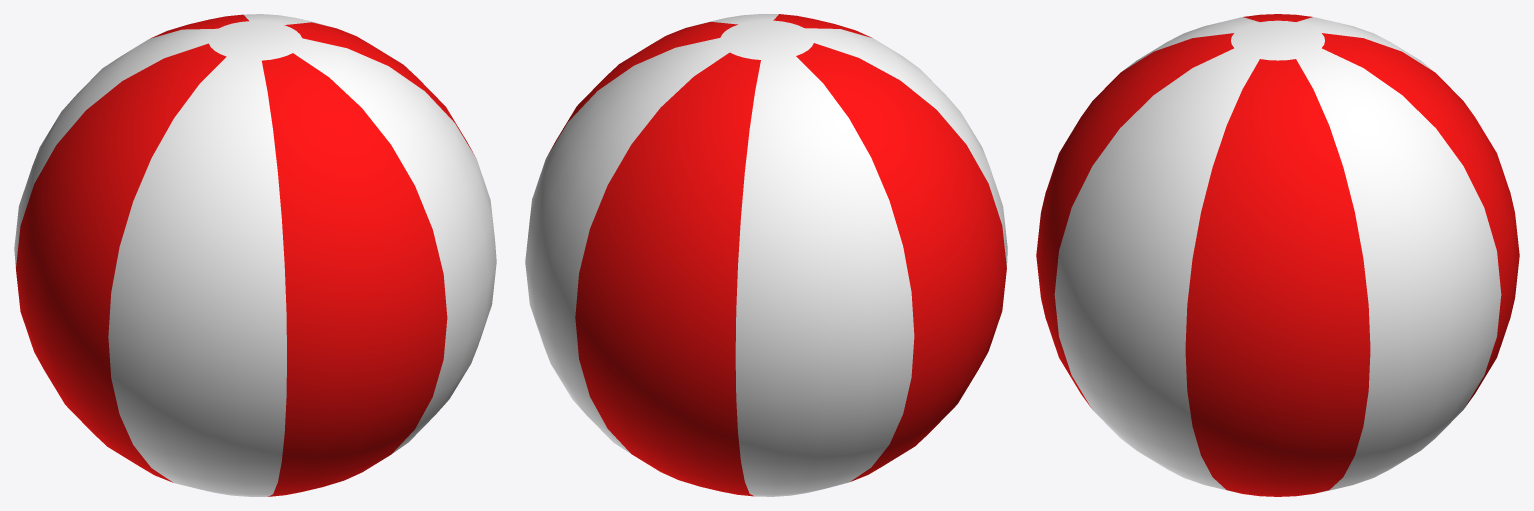
Rendered from Bola.FBX.
3 renders of one model, left to right at view 1: azimuth 30°, elevation 25°; view 2: azimuth 150°, elevation 25°; view 3: azimuth 270°, elevation 25°, orthographic.
Visible parts, largest first — view 1: Bola de praia; view 2: Bola de praia; view 3: Bola de praia.
Part boxes in pixels (x1,y1,x2,y2): Bola de praia: (14, 14, 496, 496); Bola de praia: (525, 14, 1007, 496); Bola de praia: (1036, 14, 1519, 496).
Bounding box in the file's own units: 56.7 × 55.61 × 56.7.
